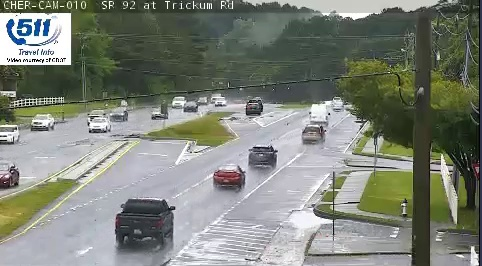car: (115, 199, 174, 237), (214, 165, 245, 187), (249, 146, 276, 165), (302, 125, 325, 142)
van: (310, 104, 327, 127)
